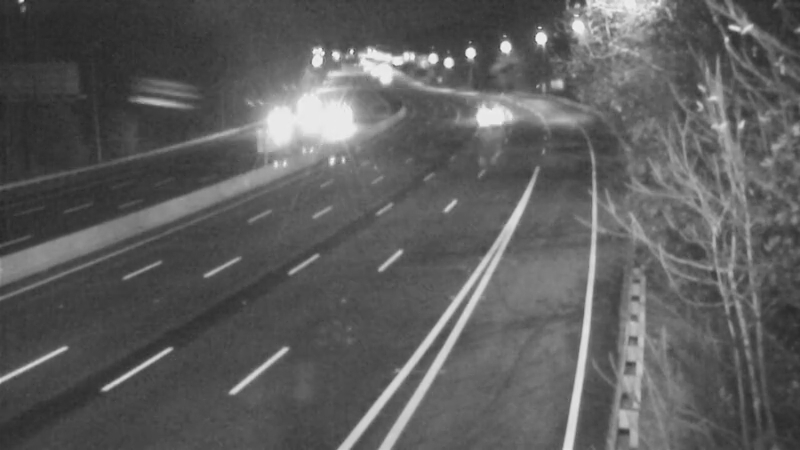vehicle: (460, 89, 510, 139), (257, 101, 307, 151), (313, 102, 363, 152), (287, 81, 337, 131)
